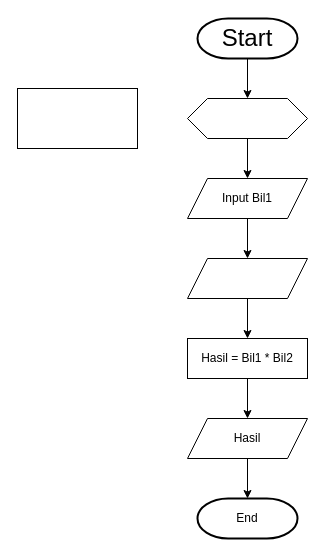
The diagram is 325 pixels wide and 556 high, and some of its shapes have lost their labels. The centre of each missing label's shape, as x and y in pixels:
"Input Bil2" belongs at [247,278].
"INT : Bil1, Bil2" belongs at [247,118].
"Nama : M. Rizqi R NIM : 20051204034 Kelas : TI-B" belongs at [77,118].
